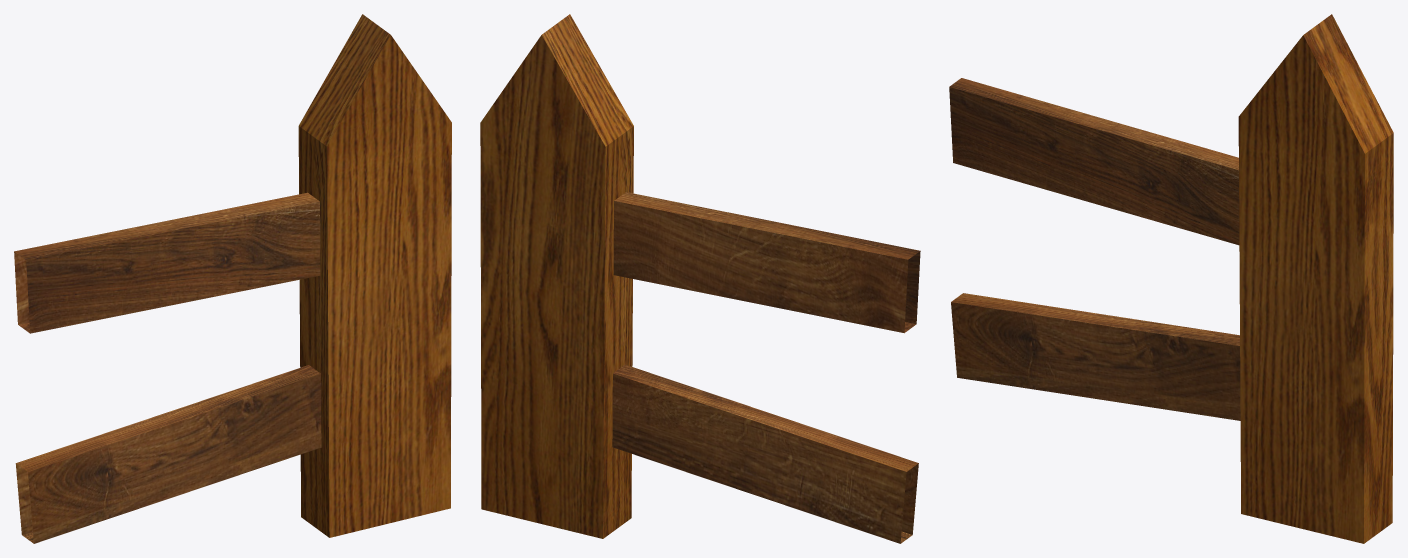
Rendered from 柵欄少左邊.FBX.
3 renders of one model, left to right at view 1: azimuth 30°, elevation 25°; view 2: azimuth 150°, elevation 25°; view 3: azimuth 330°, elevation 25°, orthographic.
Visible parts, largest first — view 1: Line001, Box002, Box001; view 2: Line001, Box002, Box001; view 3: Line001, Box001, Box002.
Boxes of the visible parts, <box> form: Line001: <box>298,14,451,537</box>; Box002: <box>15,365,321,543</box>; Box001: <box>14,192,320,333</box>; Line001: <box>480,14,633,538</box>; Box002: <box>612,364,918,543</box>; Box001: <box>613,192,920,333</box>; Line001: <box>1238,14,1393,543</box>; Box001: <box>949,78,1239,245</box>; Box002: <box>951,293,1240,420</box>.
Bounding box in the file's own units: 59.49 × 66.36 × 7.
1 material, 1 textured.
